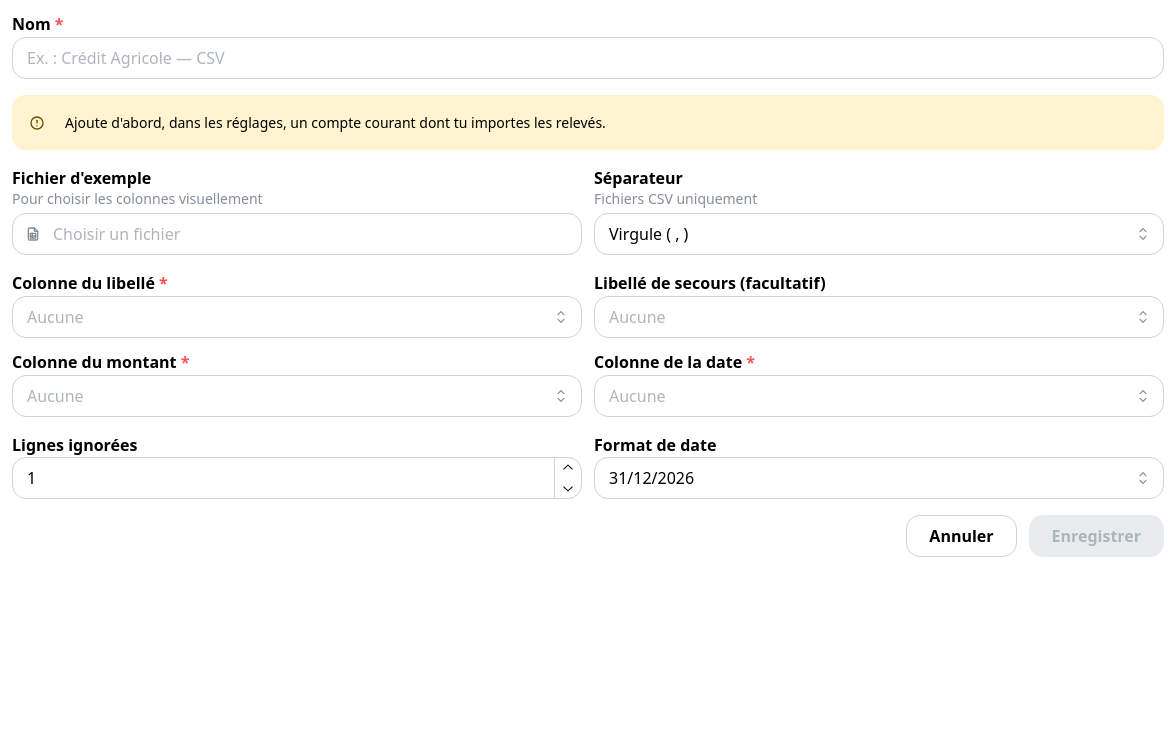
Test: ImportProfileForm › asks for an account receiving operations before a profile can be saved
Expected: the text "Ajoute d'abord, dans les réglages, un compte courant" is shown, [65, 113, 606, 132]
Type "Ma banque" into the field labelled "Nom *" at (588, 58), box [12, 37, 1164, 79]
Click the dropdown labelled "Colonne du libellé" at (297, 317), box [12, 296, 582, 338]
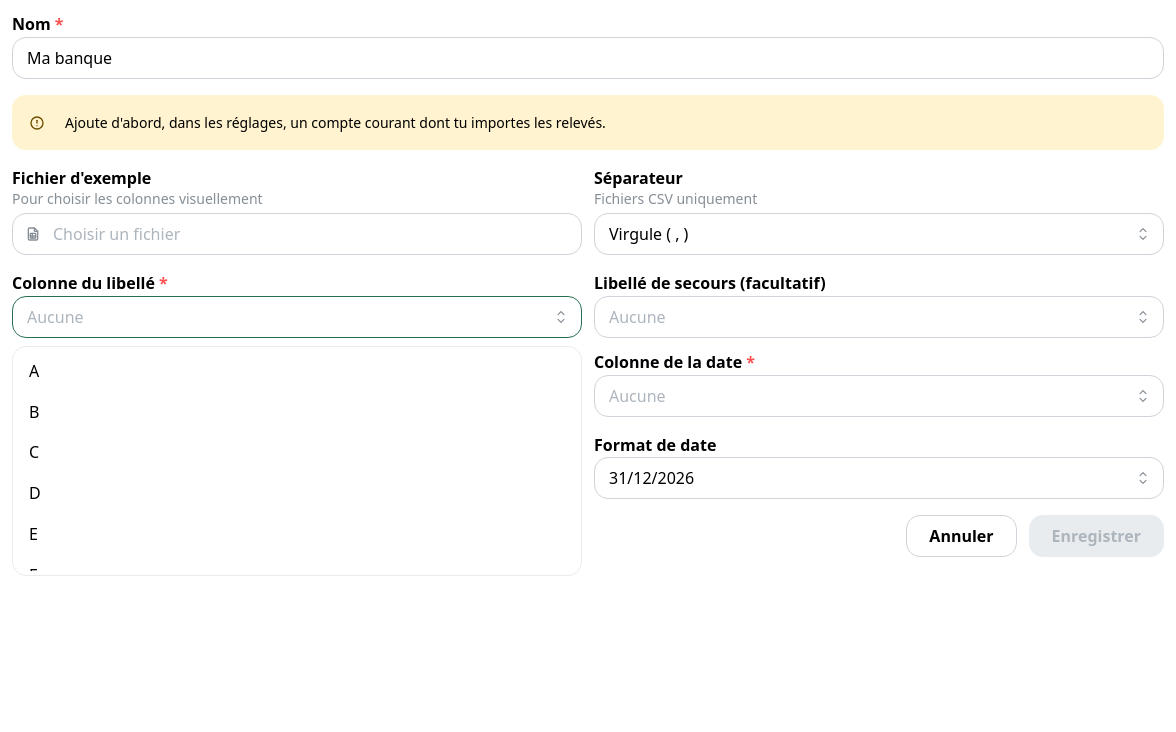
Click the option "B" at (34, 412), box [29, 401, 39, 423]
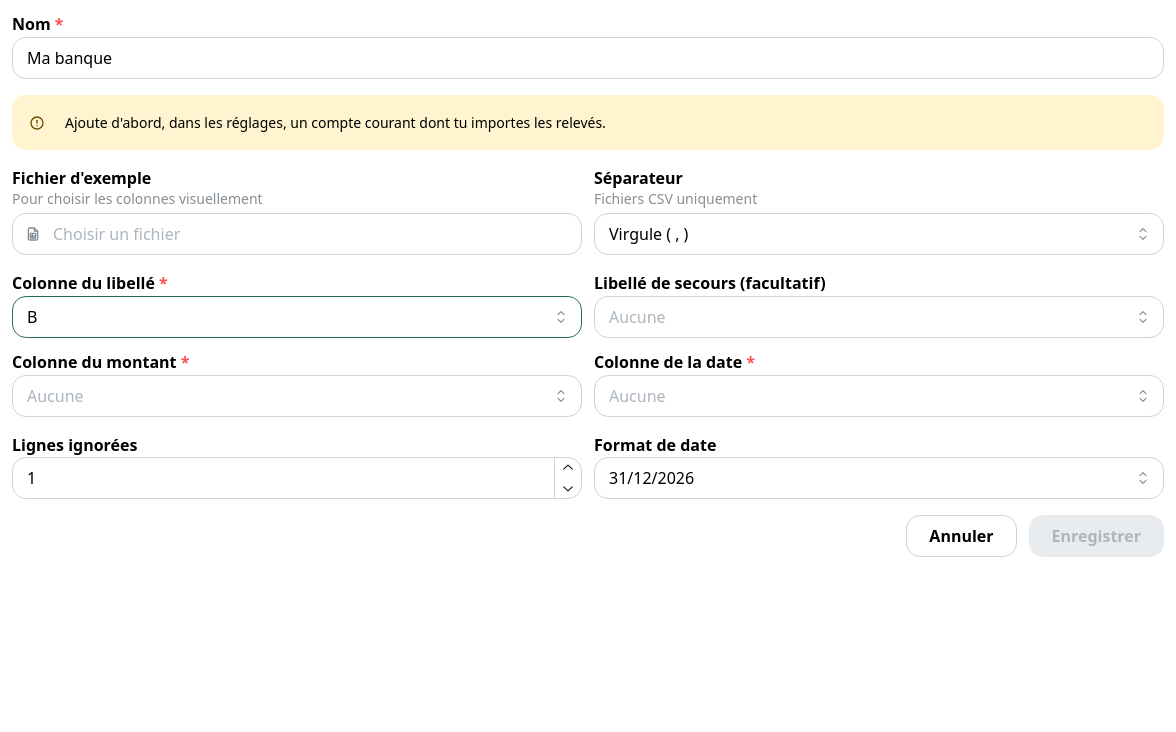
Now the list is gone
Click the dropdown labelled "Colonne du montant" at (297, 396), box [12, 375, 582, 417]
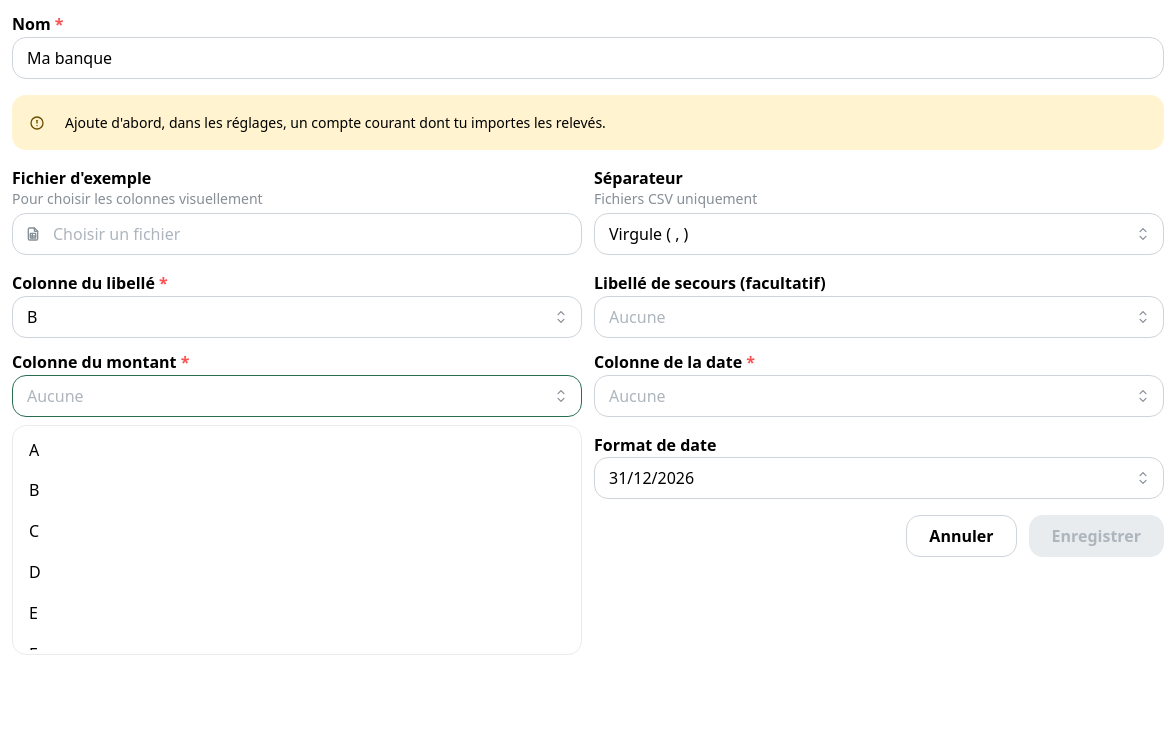
Click the option "D" at (35, 572), box [29, 561, 41, 583]
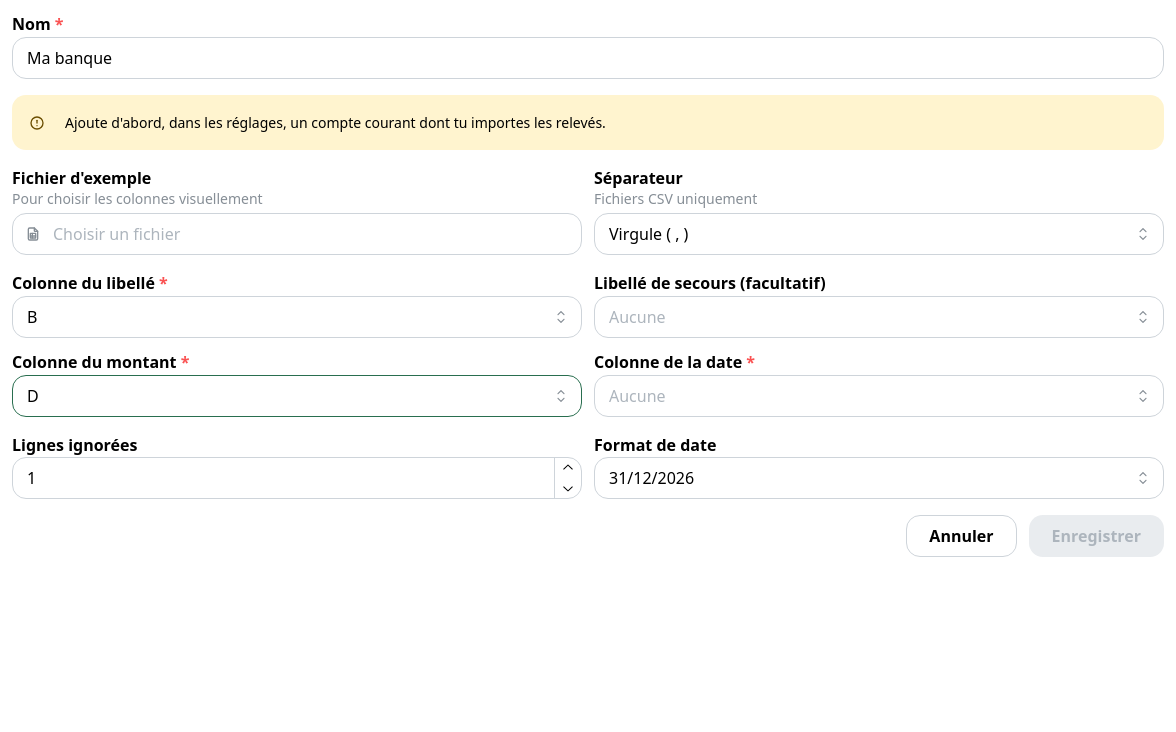
Now the list is gone
Click the dropdown labelled "Colonne de la date" at (879, 396), box [594, 375, 1164, 417]
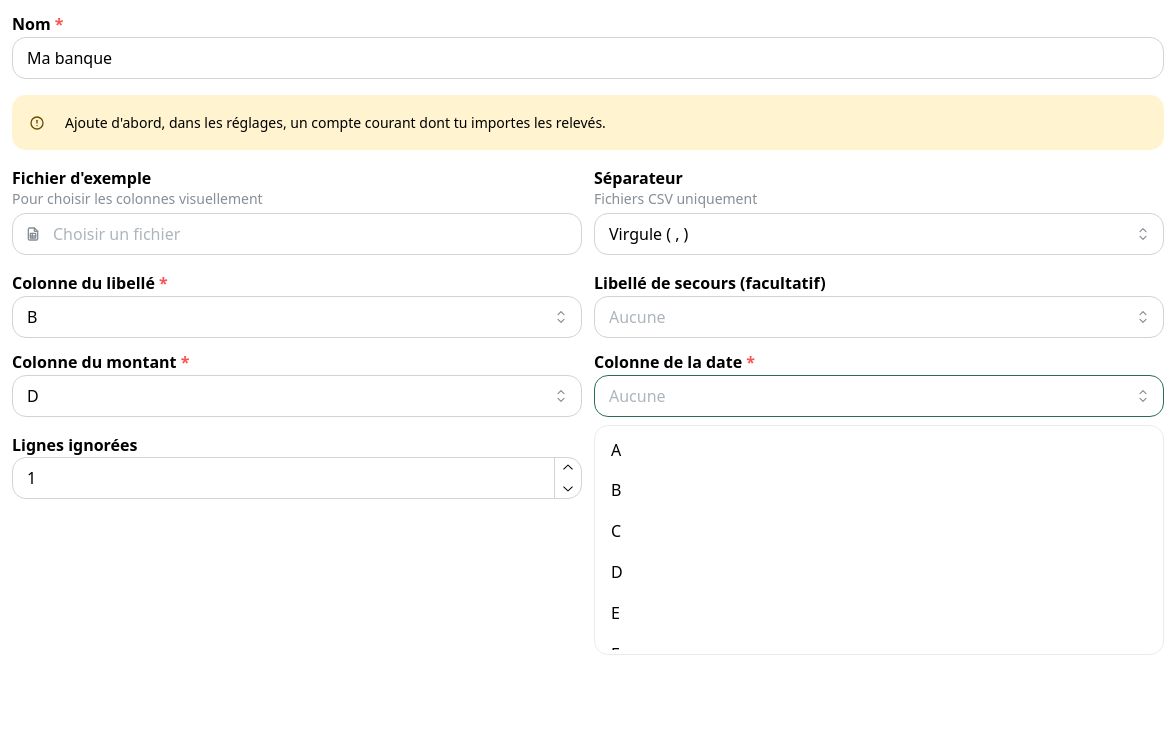
Click the option "A" at (616, 450), box [611, 439, 621, 461]
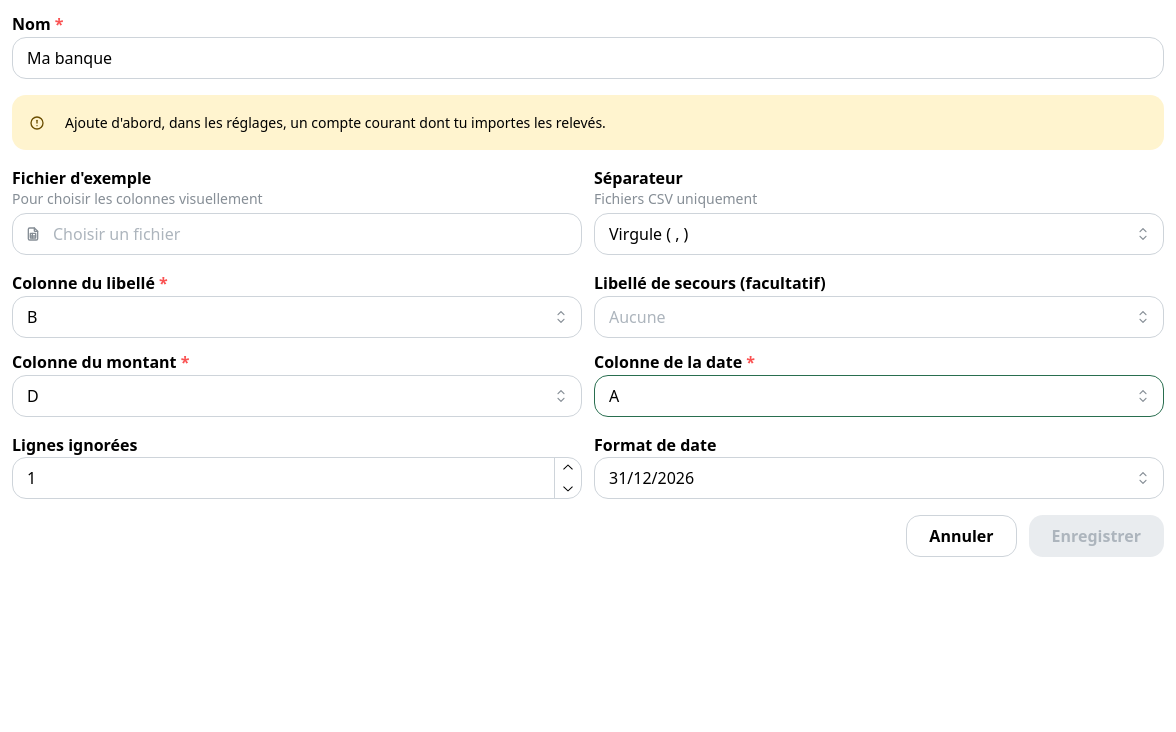
Expected: the button "Enregistrer" is disabled, [1028, 516, 1164, 558]
Now the list is gone
